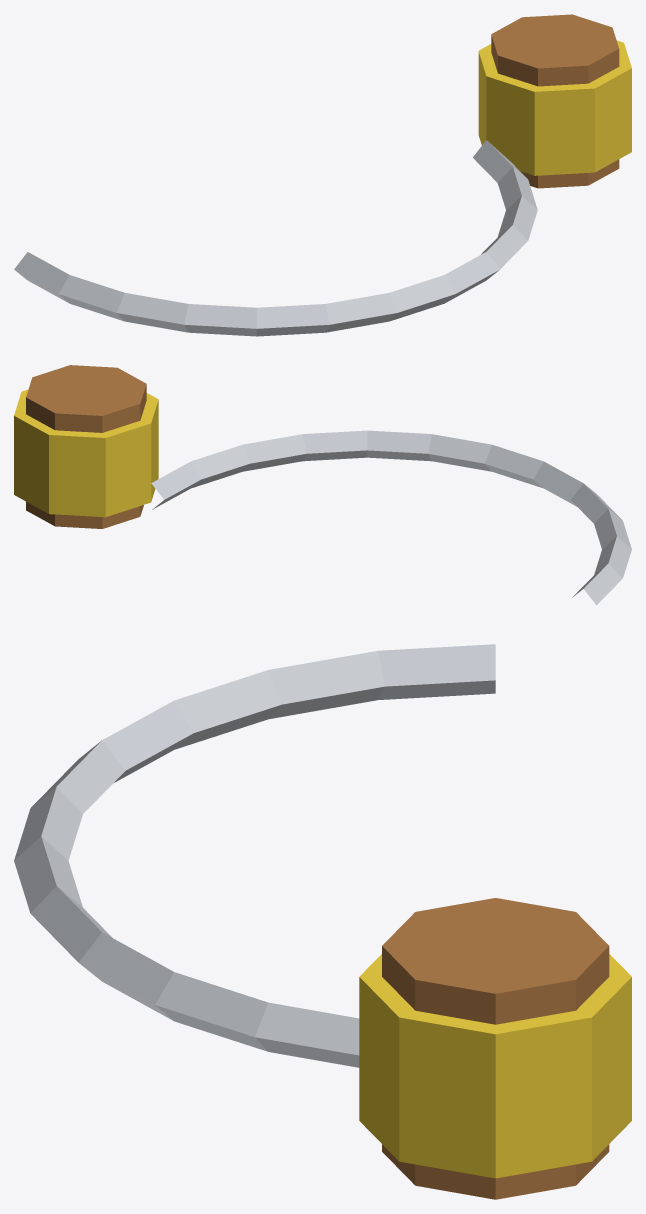
Rendered from upholstery_needle.glb.
3 renders of one model, top to bottom at view 1: azimuth 30°, elevation 25°; view 2: azimuth 150°, elevation 25°; view 3: azimuth 270°, elevation 25°, orthographic. The views are drawn at different scales.
Parts seen in each view (by area): view 1: needle_needle_steel, thread_thread_yellow, spool_spool_wood; view 2: needle_needle_steel, thread_thread_yellow, spool_spool_wood; view 3: needle_needle_steel, thread_thread_yellow, spool_spool_wood.
Boxes of the visible parts, x1,y1,x2,y2 form: needle_needle_steel: [14, 140, 537, 336]; thread_thread_yellow: [478, 40, 631, 175]; spool_spool_wood: [491, 14, 619, 188]; needle_needle_steel: [151, 430, 631, 605]; thread_thread_yellow: [14, 389, 158, 517]; spool_spool_wood: [26, 365, 146, 528]; needle_needle_steel: [14, 644, 495, 1067]; thread_thread_yellow: [359, 954, 631, 1178]; spool_spool_wood: [382, 898, 609, 1199].
Bounding box in the file's own units: 0.266 × 0.05 × 0.136.
